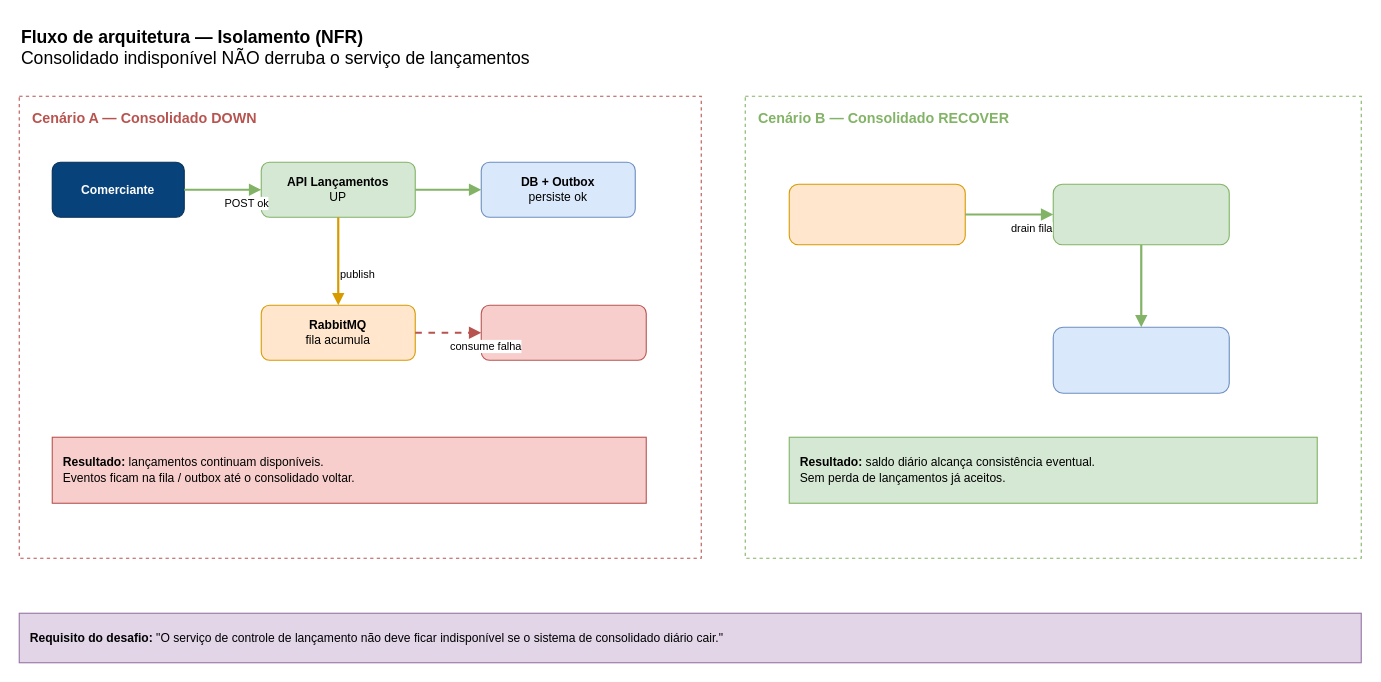
Some shapes in this 1381 by 682 pixel diagram are drawn without their labels. The shapes that lost their labels are listed below. From the top down, each one's box as (x1, y1, x2, y2) in pixels, then its label:
(788, 183, 965, 245): RabbitMQ mensagens pendentes
(1052, 183, 1229, 245): API Consolidado UP novamente
(480, 304, 646, 360): API Consolidado DOWN / timeout
(1052, 326, 1229, 393): DB Consolidado reprocessa com idempotência
